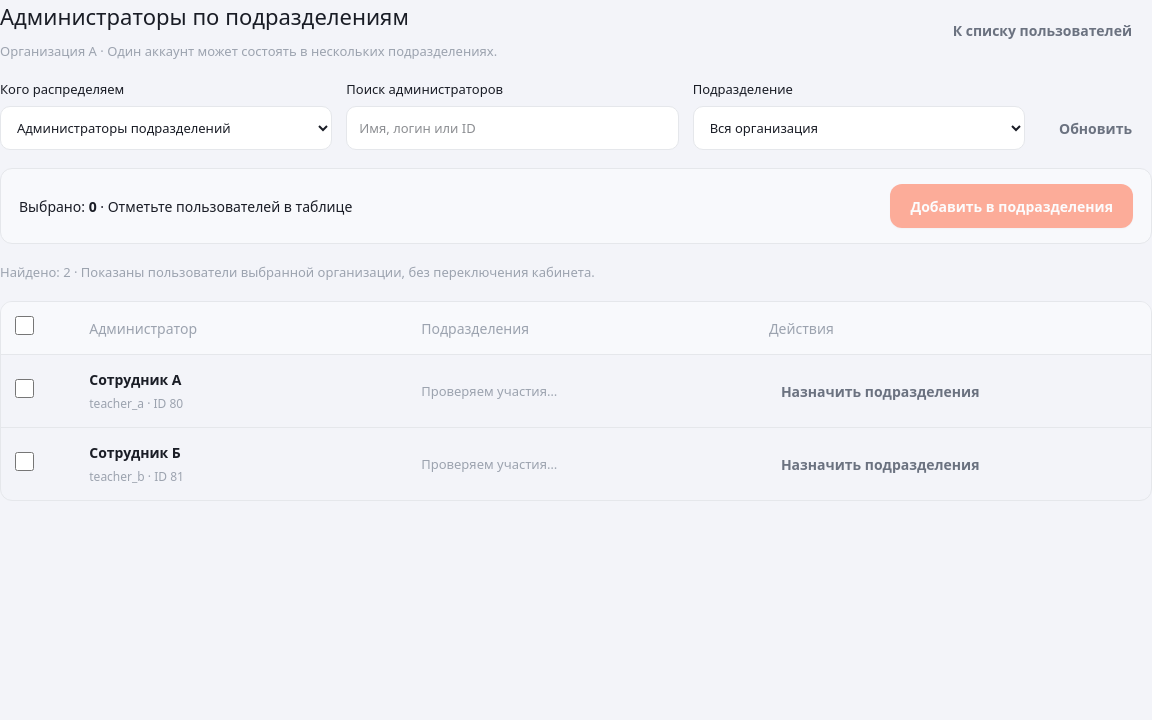
Test: restricted administrators in the same distribution window › blocks assignment when role catalog is empty
Expected: the text "Сотрудник А" is shown, left=89, top=370, right=182, bottom=389
Click the button "Назначить подразделения" in the row of "Сотрудник А" at [880, 391], box left=769, top=373, right=992, bottom=409
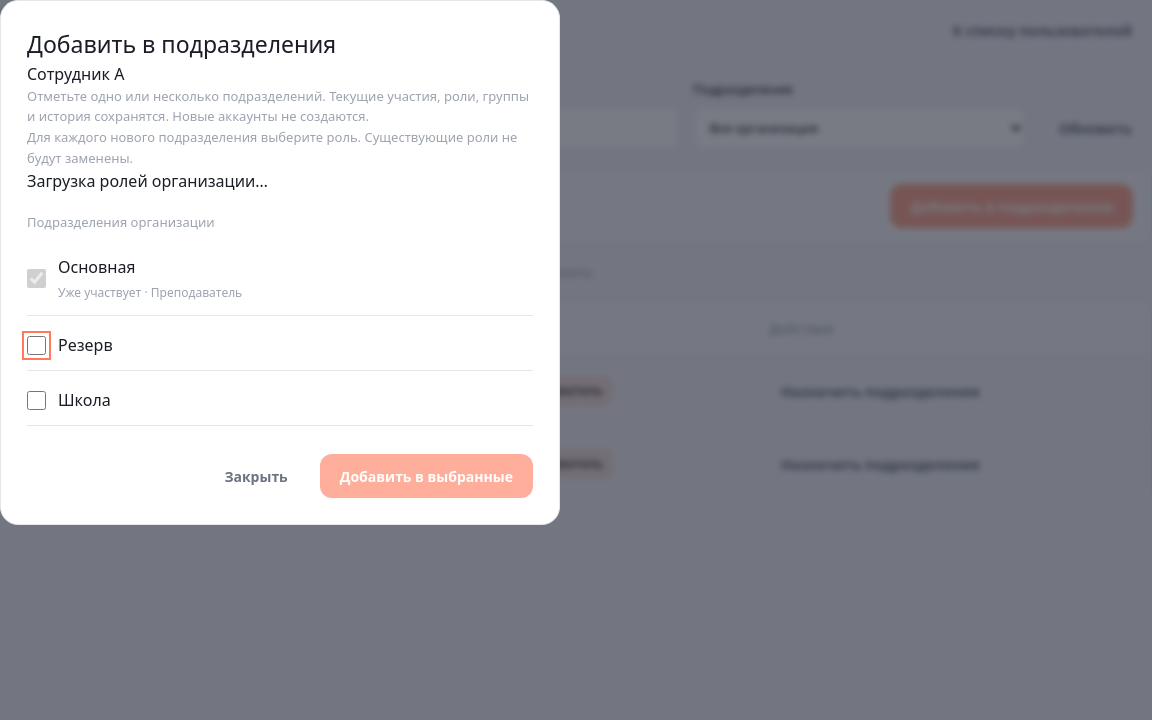
Click the checkbox labelled "Резерв" at [36, 345], box left=27, top=336, right=46, bottom=355
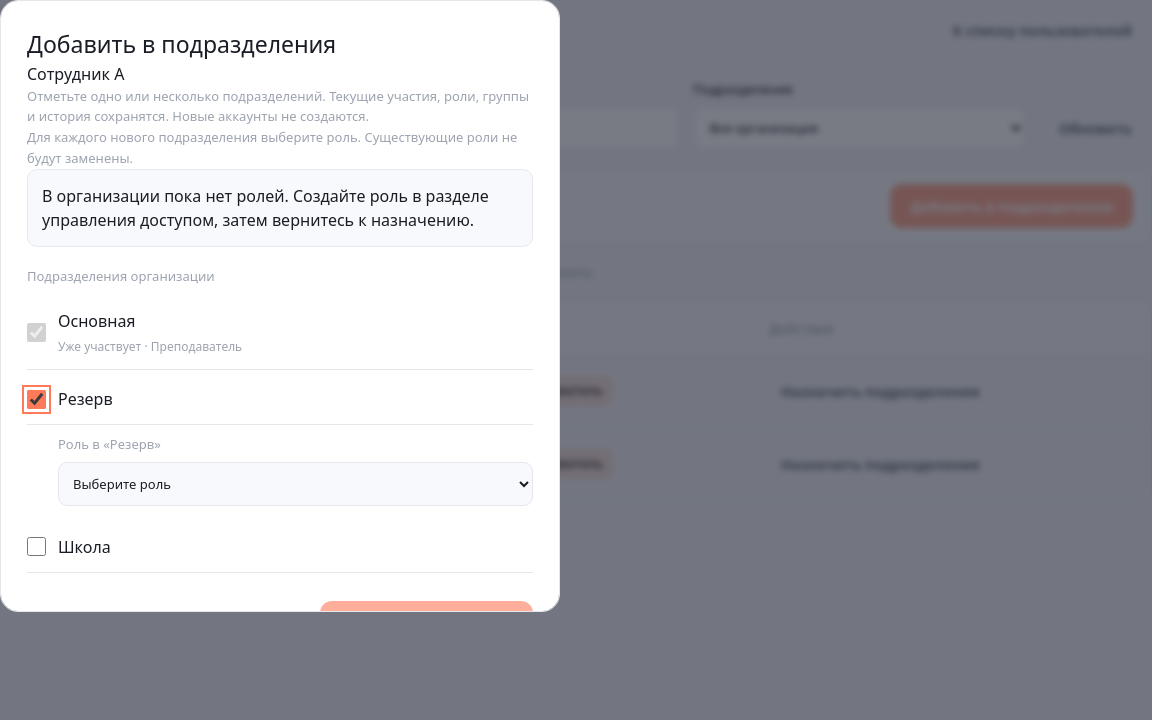
Expected: the text "пока нет ролей" is shown, left=42, top=185, right=489, bottom=231
